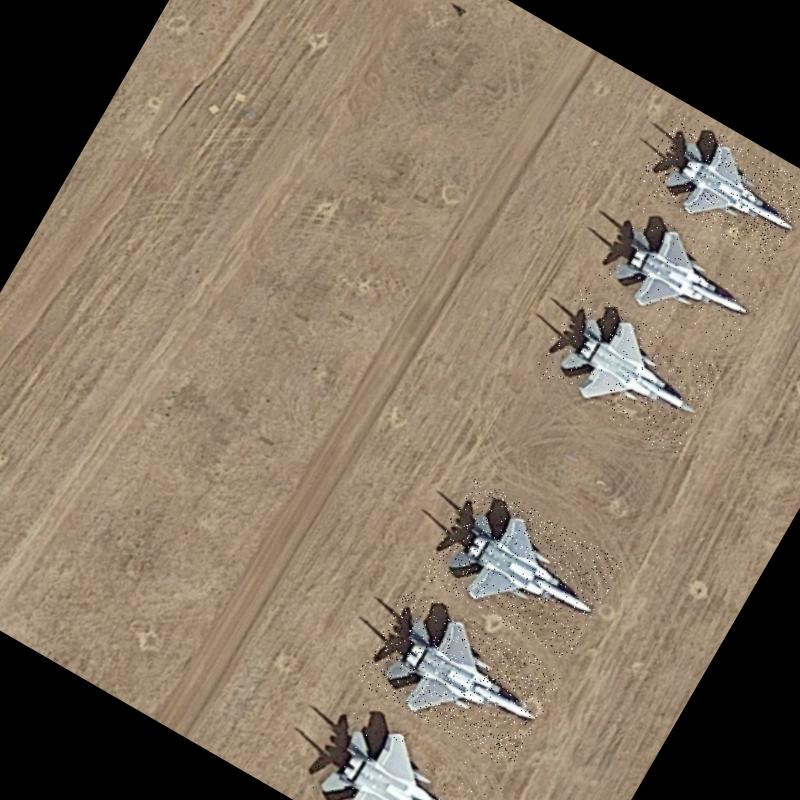A13: (353, 583, 565, 770), (418, 476, 625, 662), (531, 286, 725, 458), (590, 201, 774, 358), (633, 109, 800, 266), (297, 694, 506, 800)
